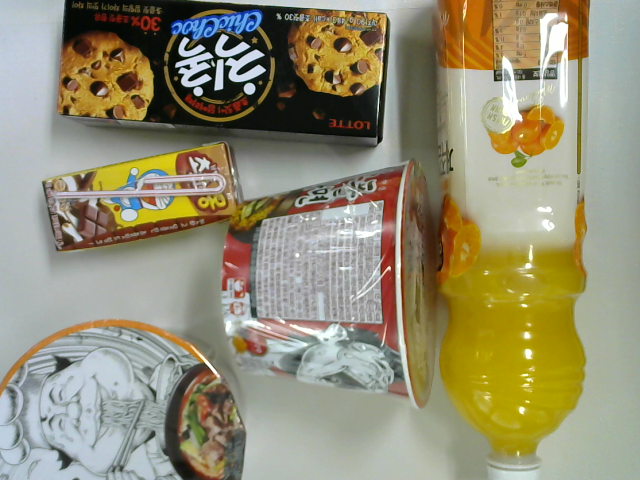Chicchok_Original_2400: (55, 1, 392, 147)
Choco_E_Mong: (40, 139, 245, 255)
Hejangchan: (1, 318, 248, 475)
Hejangpul: (220, 157, 437, 412)
Jeju_Tangerine_1.5L: (432, 1, 593, 480)
